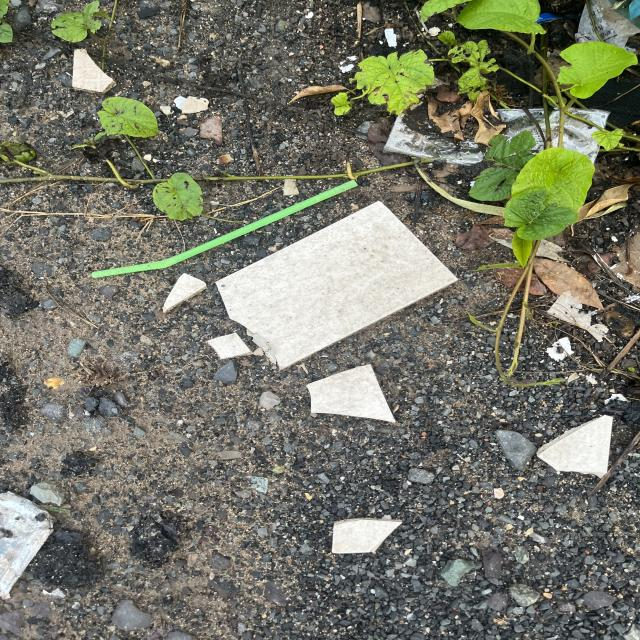drinking straw: (92, 180, 359, 280)
